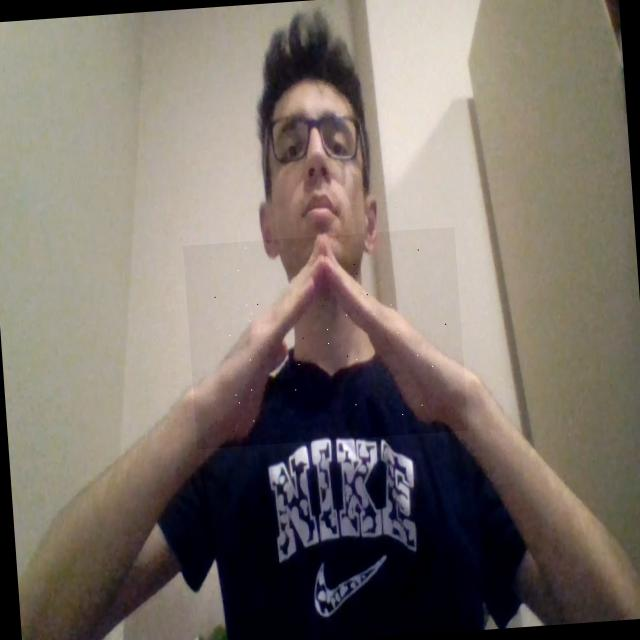house: (182, 226, 468, 449)
